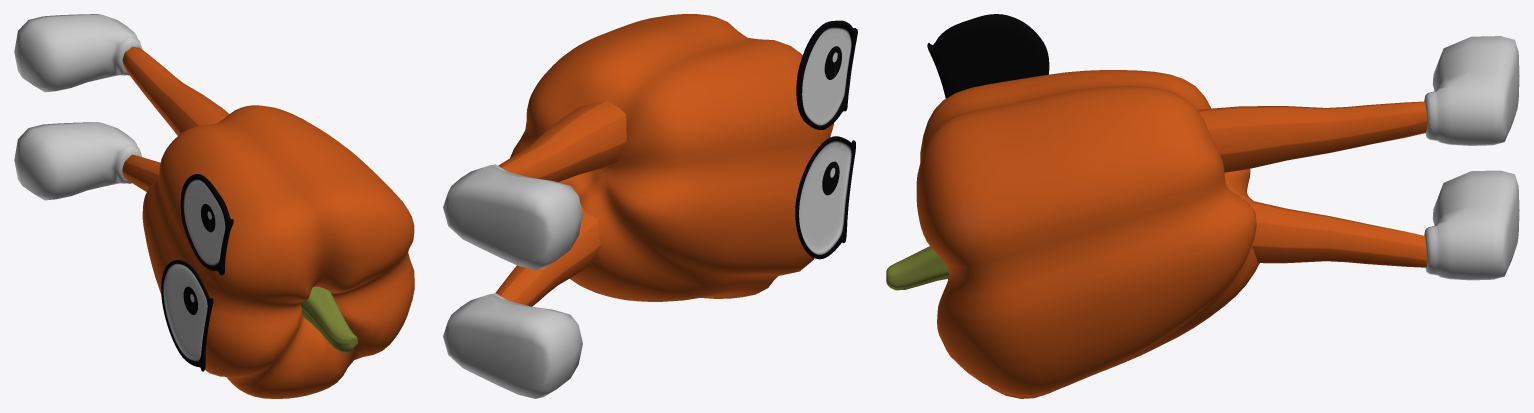
The model's file is Pepper-Copy.obj.
3 views of the same model, side by side, from view 1: azimuth 30°, elevation 25°; view 2: azimuth 150°, elevation 25°; view 3: azimuth 270°, elevation 25° (orthographic). The views are drawn at different scales.
Visible parts, largest first — view 1: Cube.001; view 2: Cube.001; view 3: Cube.001.
Part boxes in pixels (<box>): Cube.001: <box>14,14,414,398</box>; Cube.001: <box>443,14,857,398</box>; Cube.001: <box>886,14,1519,398</box>.
Bounding box in the file's own units: 0.6676 × 0.7094 × 1.33.
